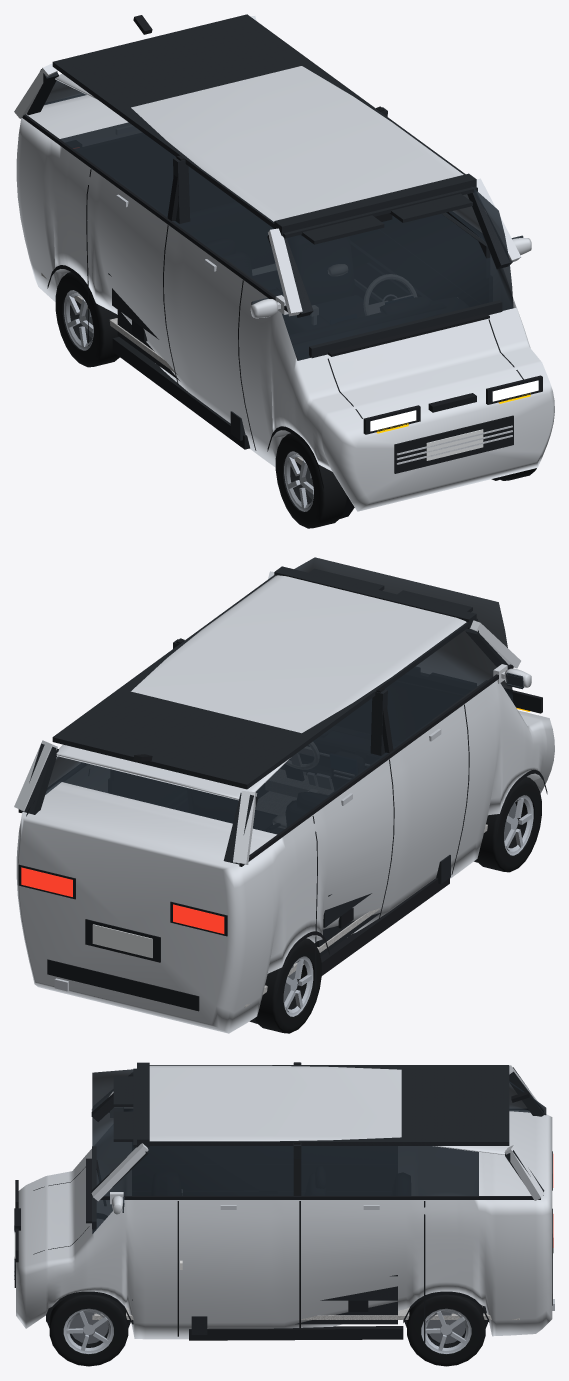
File: car_van.glb
The picture shows the model from 3 angles, top to bottom: view 1: azimuth 30°, elevation 25°; view 2: azimuth 150°, elevation 25°; view 3: azimuth 270°, elevation 25°; orthographic projection. The views are drawn at different scales.
Parts seen in each view (by area): view 1: Body, Glass, Cabin, Trim, Wheel_FR, Wheel_RR, HeadLamp, Chrome, PlateF; view 2: Body, Cabin, Glass, Trim, Wheel_RR, Wheel_FR, TailLamp, PlateR; view 3: Body, Glass, Cabin, Trim, Wheel_FL, Wheel_RL, Carpet.
Part boxes in pixels (x1,y1,x2,y2): Body: (14, 16, 554, 511); Glass: (44, 80, 513, 360); Cabin: (27, 14, 512, 440); Trim: (22, 15, 542, 518); Wheel_FR: (275, 433, 346, 528); Wheel_RR: (55, 272, 119, 367); HeadLamp: (370, 380, 538, 431); Chrome: (116, 194, 512, 464); PlateF: (426, 429, 483, 460); Body: (14, 571, 554, 1033); Cabin: (21, 566, 508, 956); Glass: (26, 557, 513, 834); Trim: (18, 638, 547, 1023); Wheel_RR: (254, 938, 321, 1033); Wheel_FR: (476, 777, 541, 872); TailLamp: (21, 867, 224, 933); PlateR: (92, 924, 152, 957); Body: (16, 1065, 552, 1339); Glass: (92, 1069, 546, 1233); Cabin: (91, 1062, 544, 1334); Trim: (14, 1062, 552, 1344); Wheel_FL: (49, 1294, 128, 1366); Wheel_RL: (407, 1294, 485, 1366); Carpet: (92, 1306, 519, 1319).
Size of the model in its own units: 1.95 by 1.93 by 4.09.
17 materials, 4 textured.
